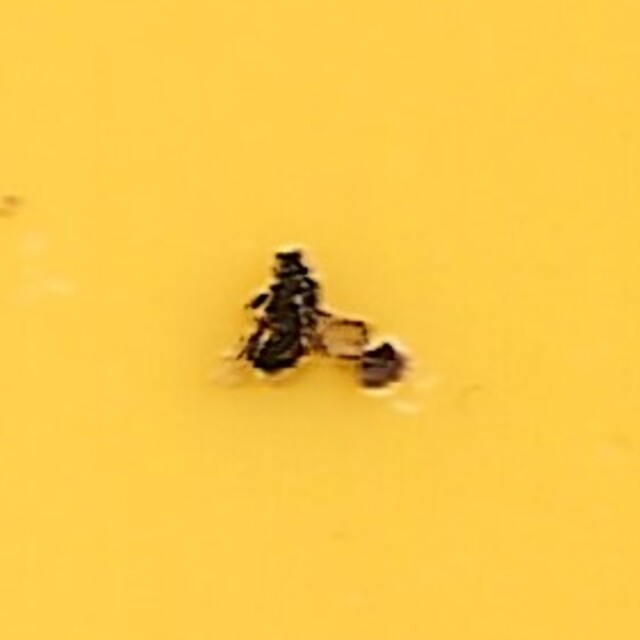Brachycera: (228, 245, 412, 395)
